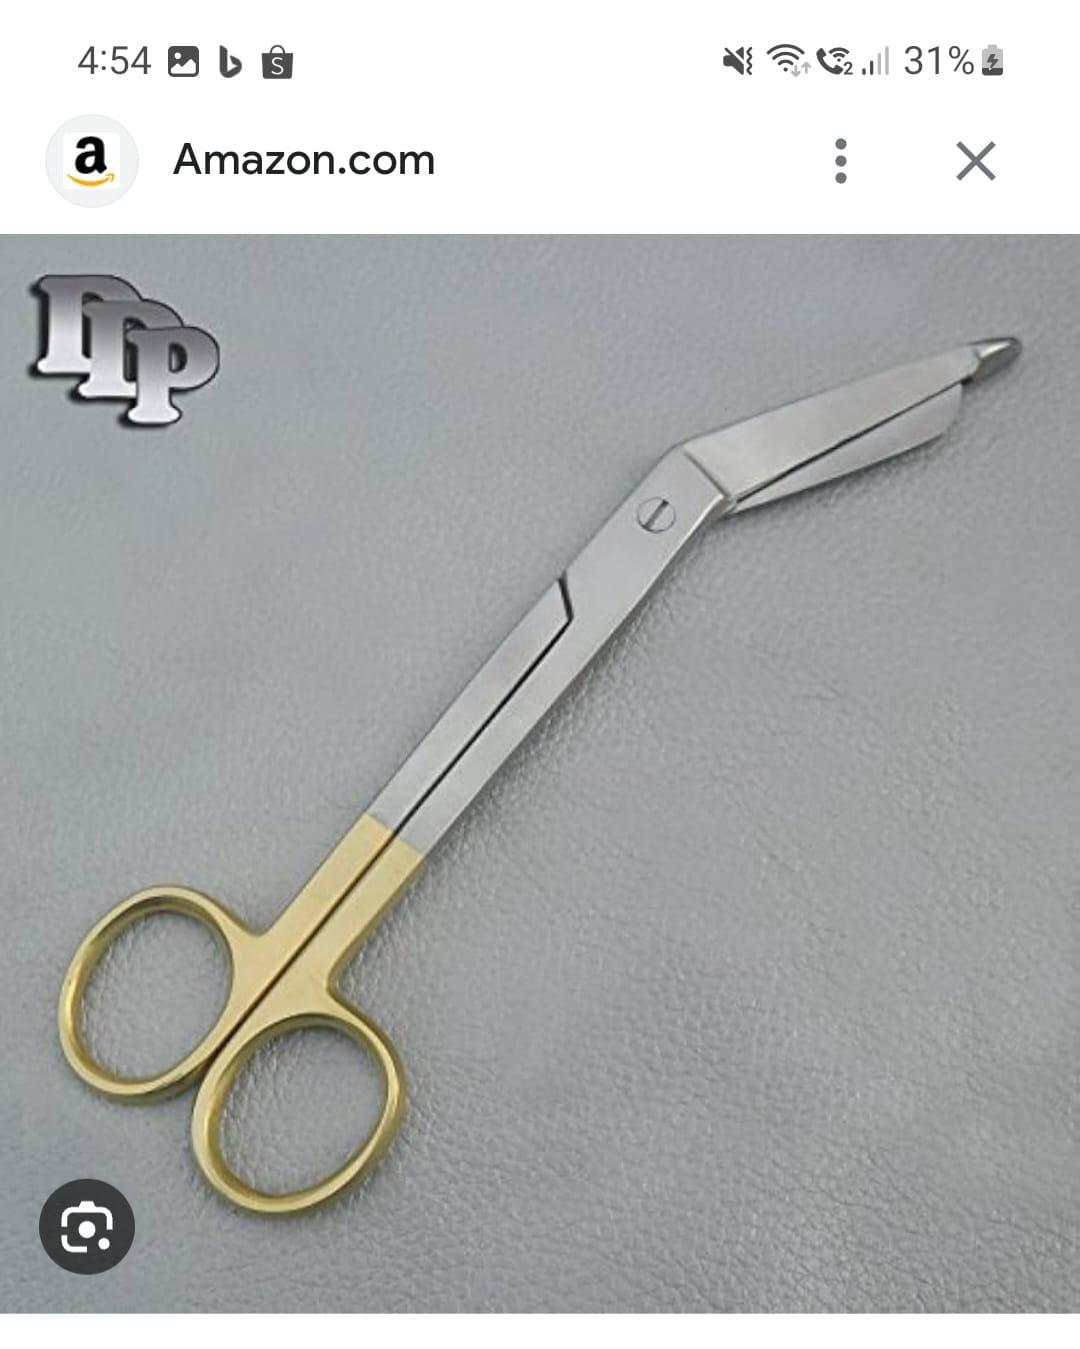Bandage Sciccors: (48, 330, 1036, 1222)
